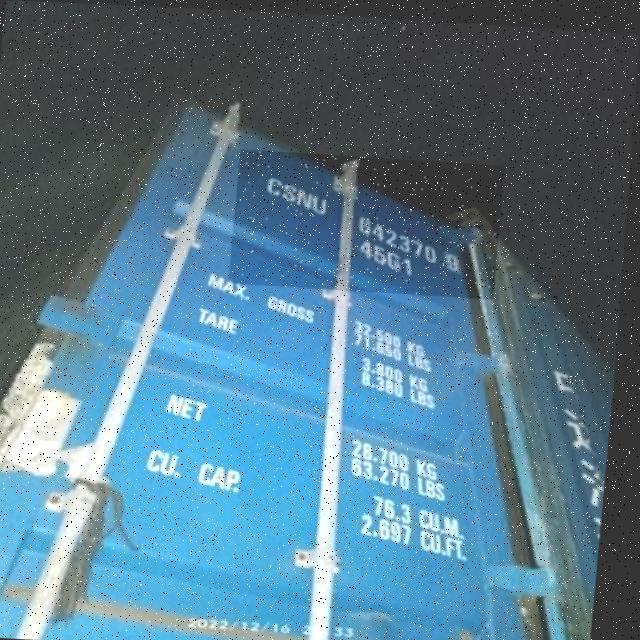container_number_h: (232, 146, 507, 294)
